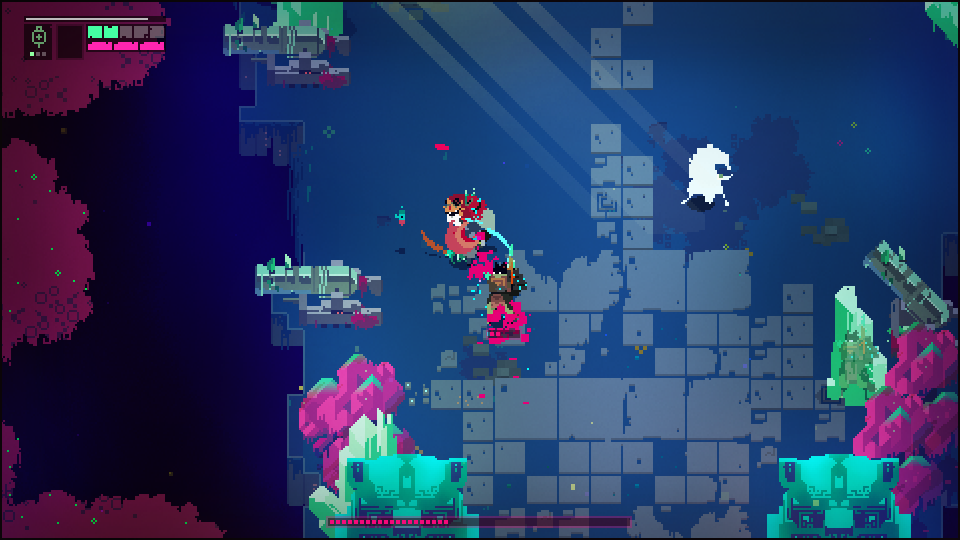hanged_man: (420, 187, 498, 271)
